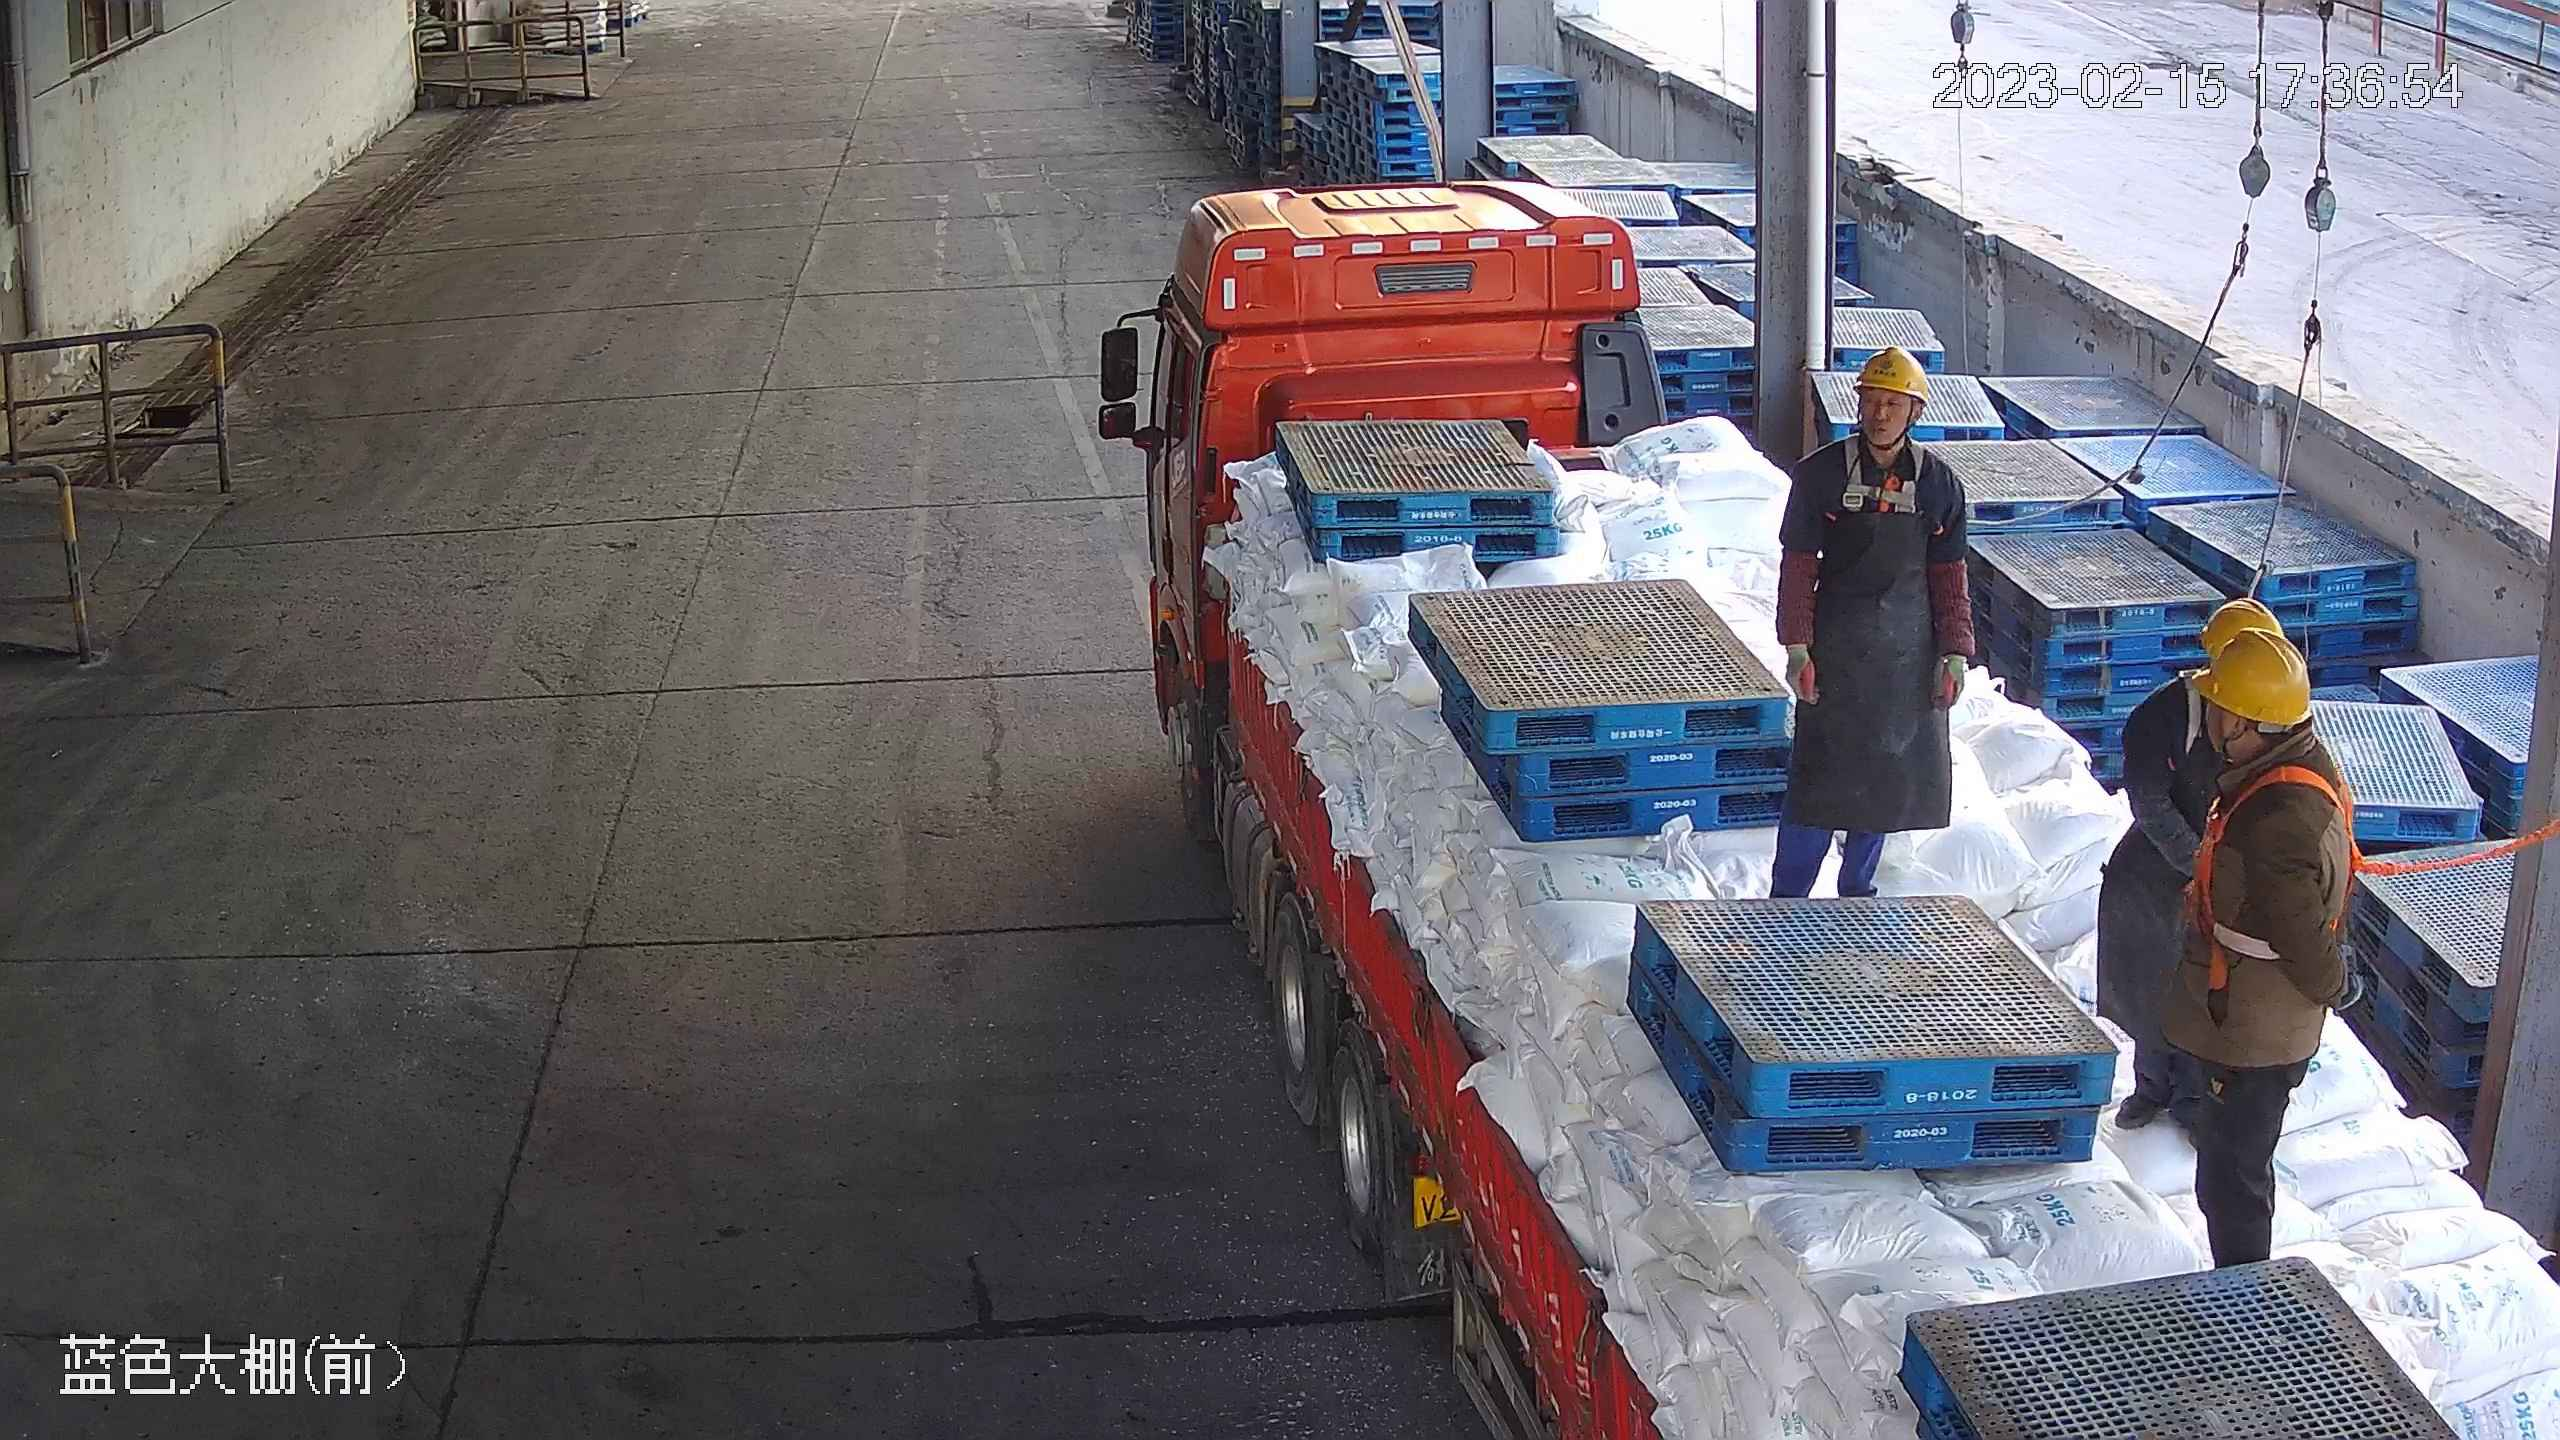belt: (2183, 763, 2369, 989), (1841, 432, 1922, 515)
head: (2194, 632, 2355, 854), (1788, 343, 1966, 512)
helmet: (2190, 629, 2311, 722), (2201, 597, 2286, 660), (1854, 342, 1930, 400)
people: (2158, 631, 2368, 1273), (1769, 343, 1976, 902)
truck: (1097, 182, 2560, 1440)
